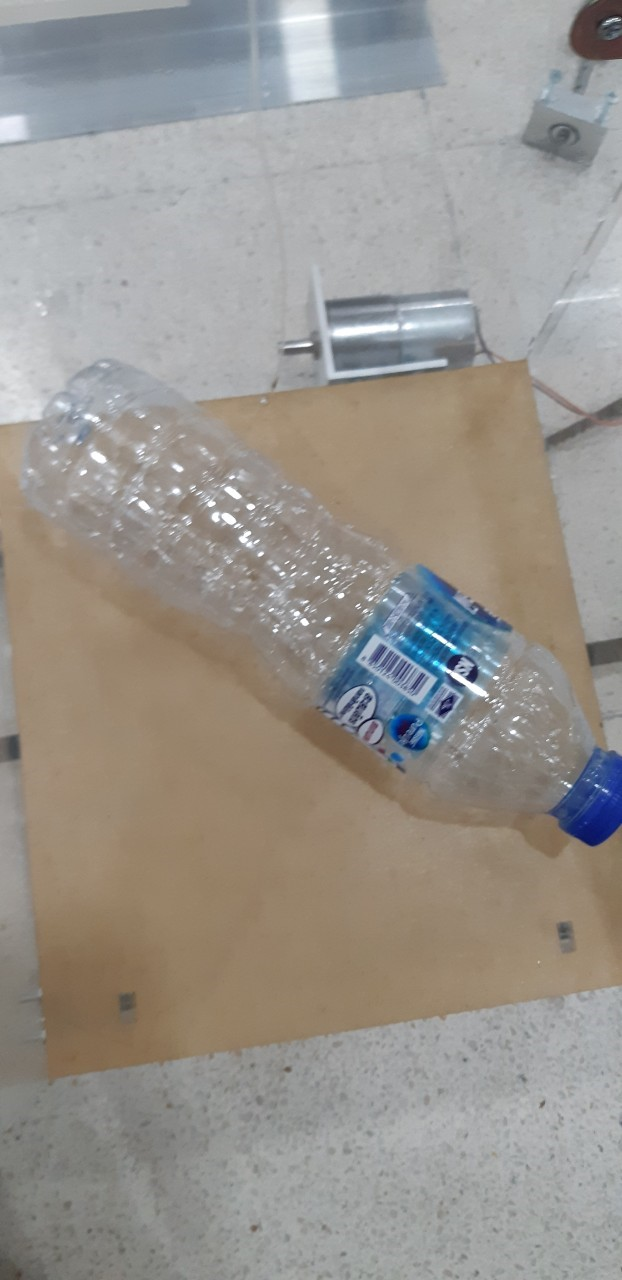PlasticBottle: (22, 357, 622, 847)
